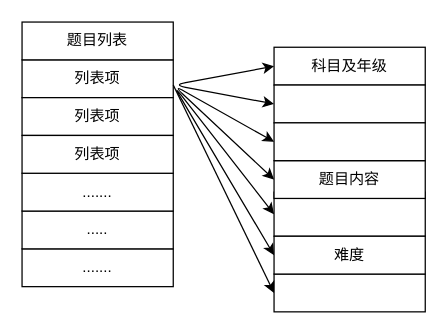
The diagram is 447 pixels wide and 334 high, and some of its shapes have lost their labels. The centre of each missing label's shape, as x and y in pixels:
"分数" belongs at point 349,213.
"对应年级" belongs at point 349,103.
"答案" belongs at point 349,292.
"题型" belongs at point 349,141.
